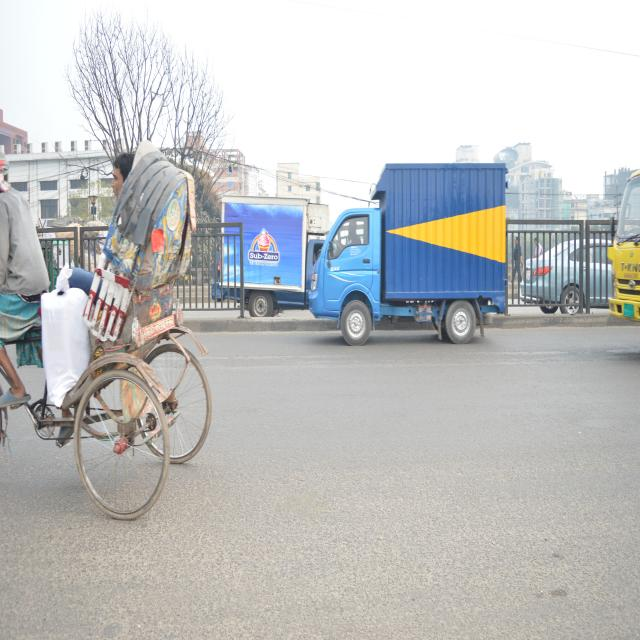car: (524, 235, 618, 320)
pickup-van: (311, 158, 511, 348), (220, 192, 318, 321)
